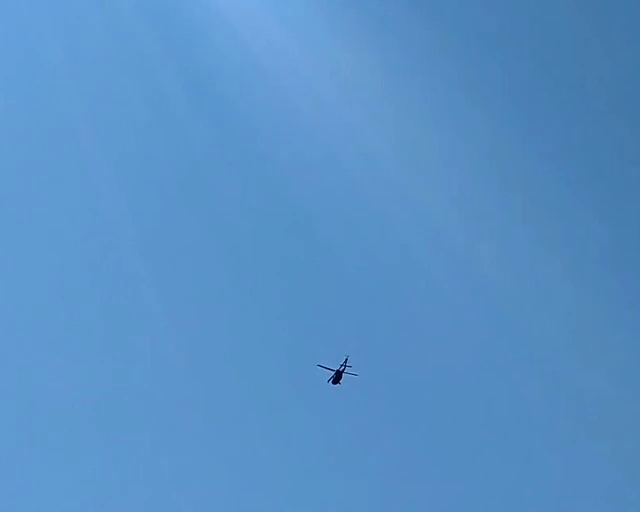HELICOPTER: (316, 354, 357, 386)
